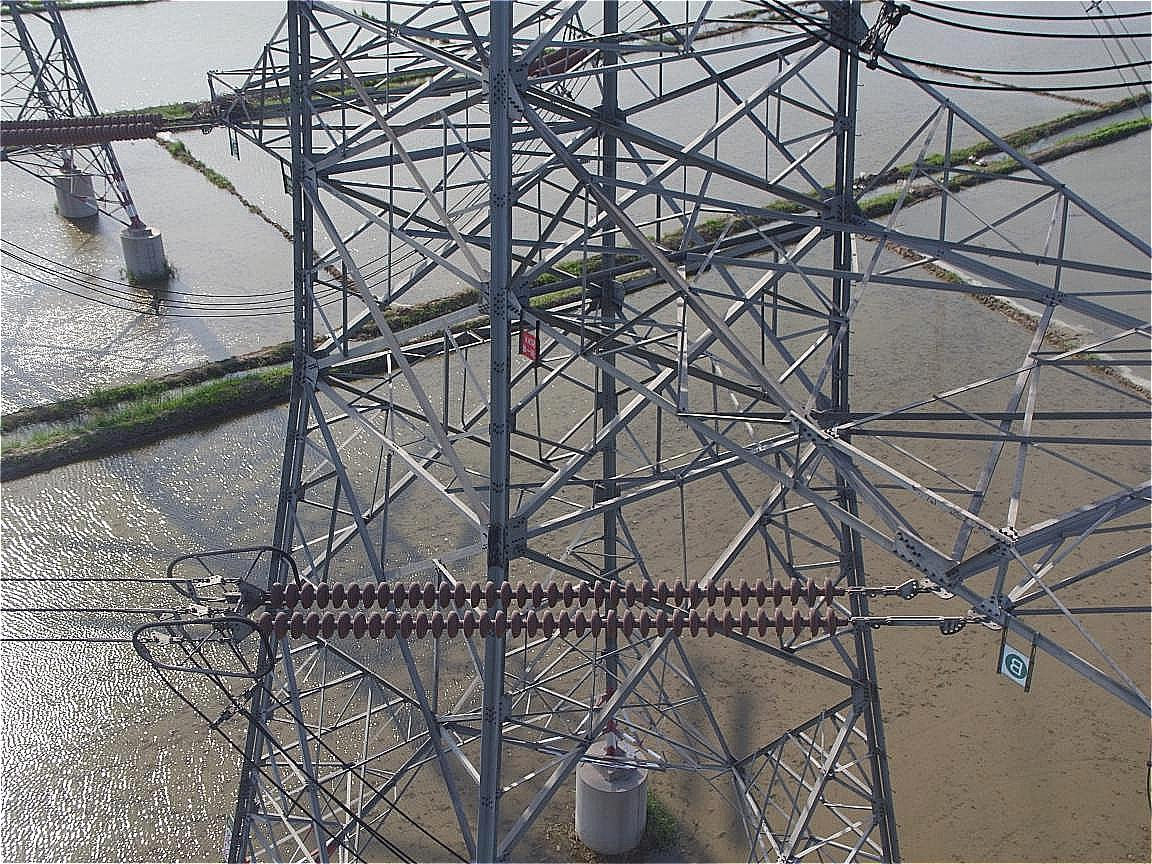insultor1: (235, 547, 864, 652)
